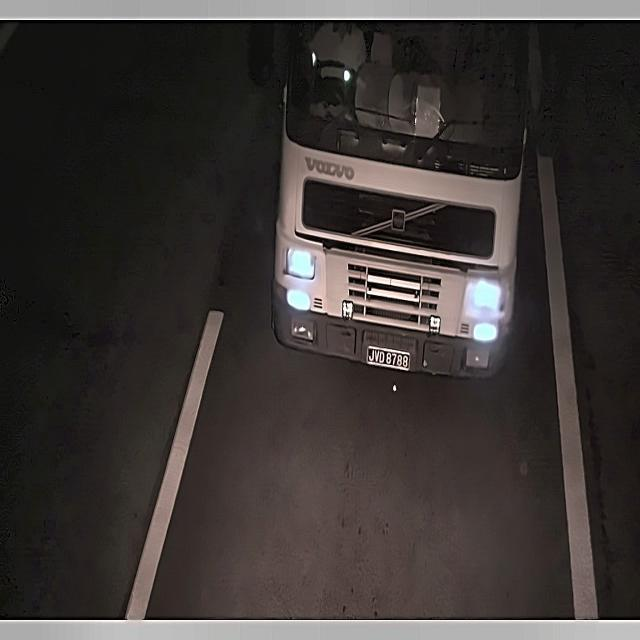car: (361, 343, 415, 375)
